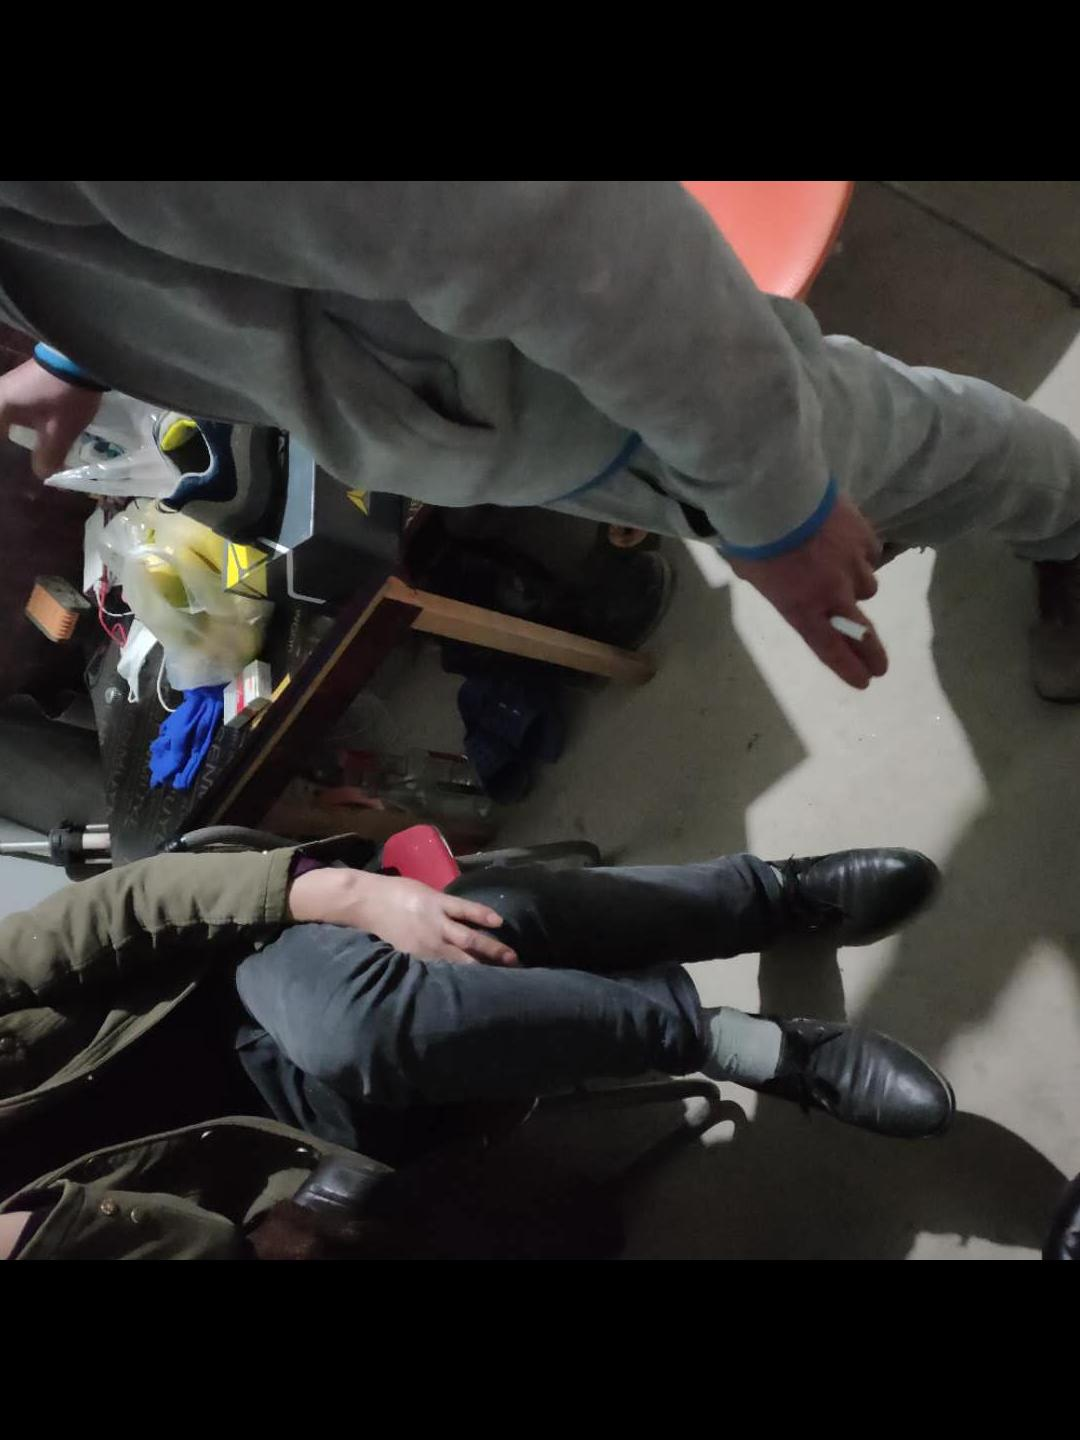Cigarette: (826, 615, 872, 639)
